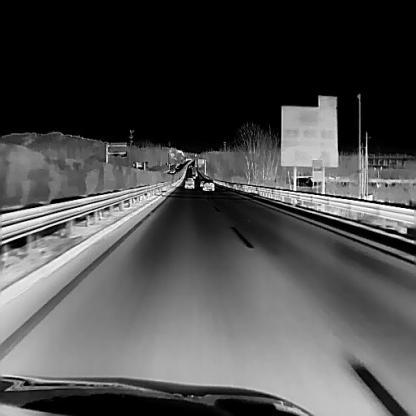car: (201, 178, 214, 190), (184, 176, 194, 188)
